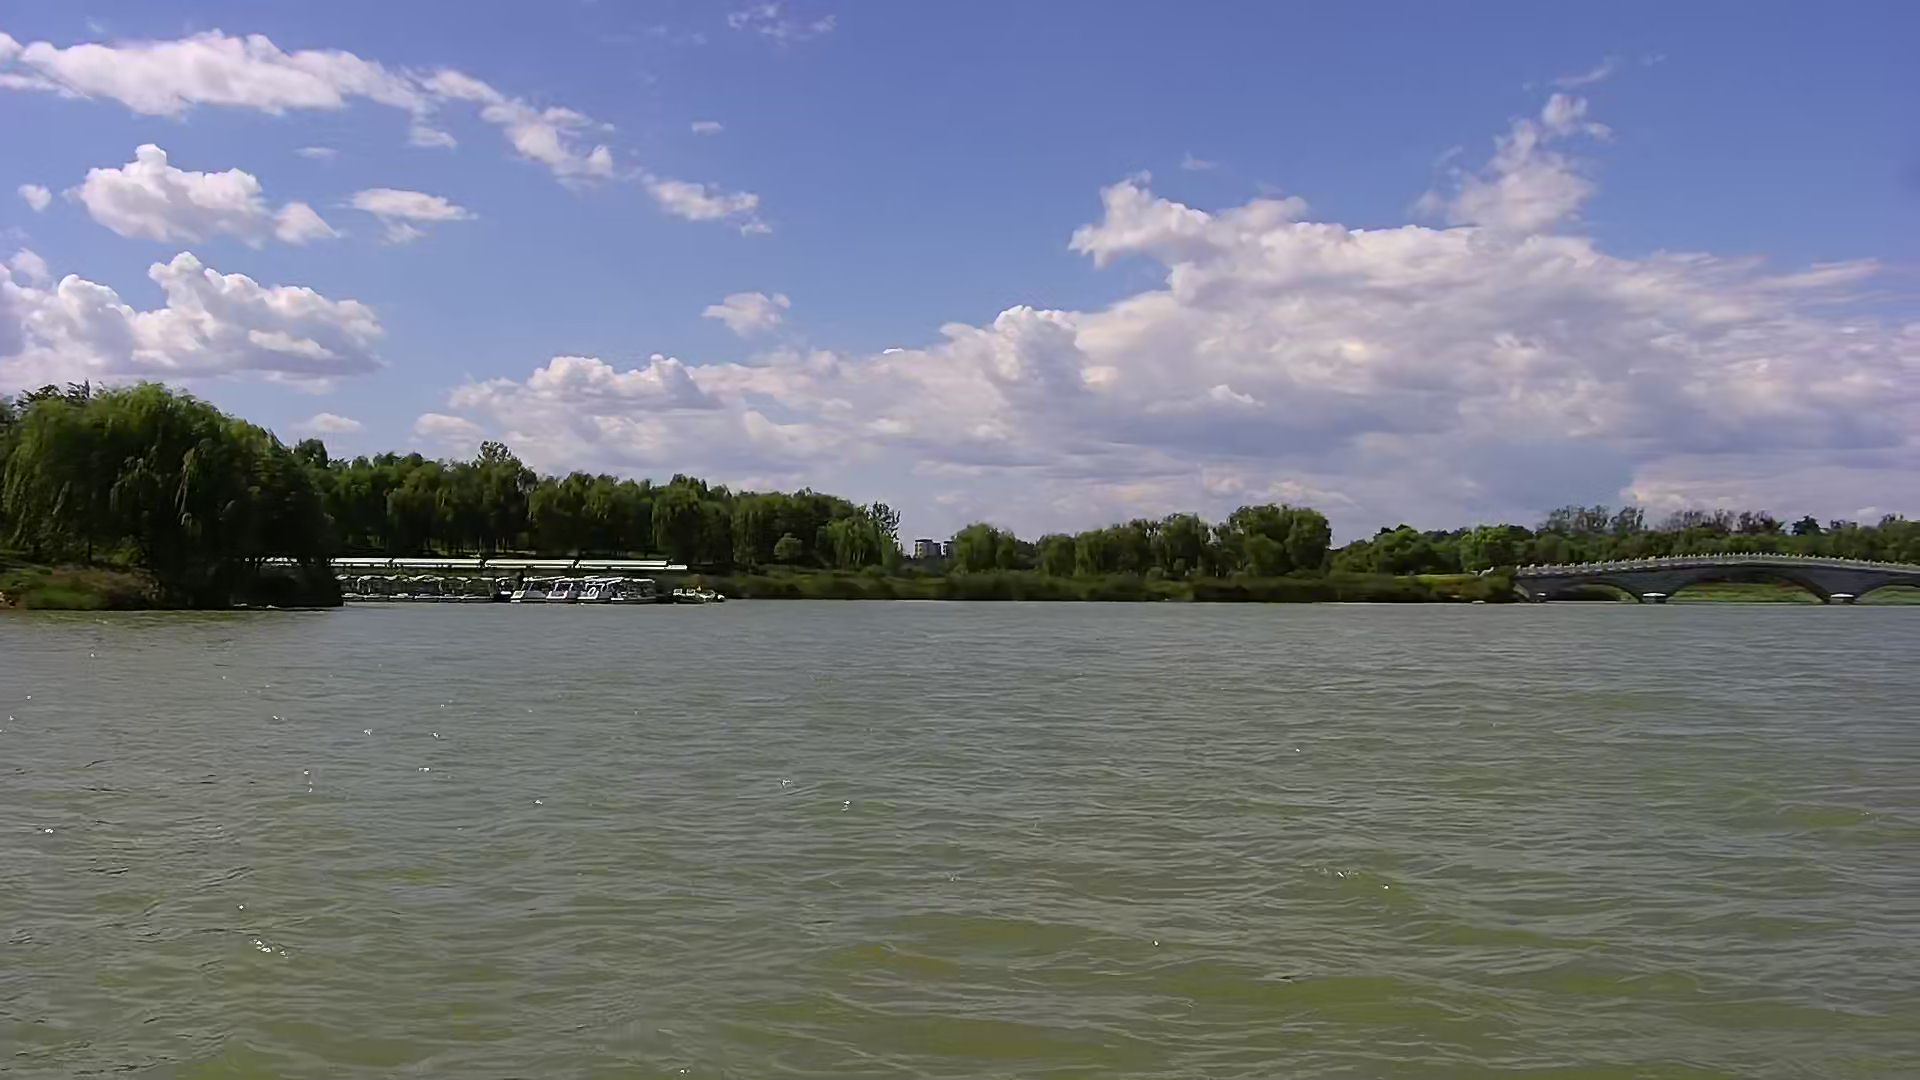bridge: (1520, 555, 1920, 604)
harbor: (326, 553, 729, 607)
